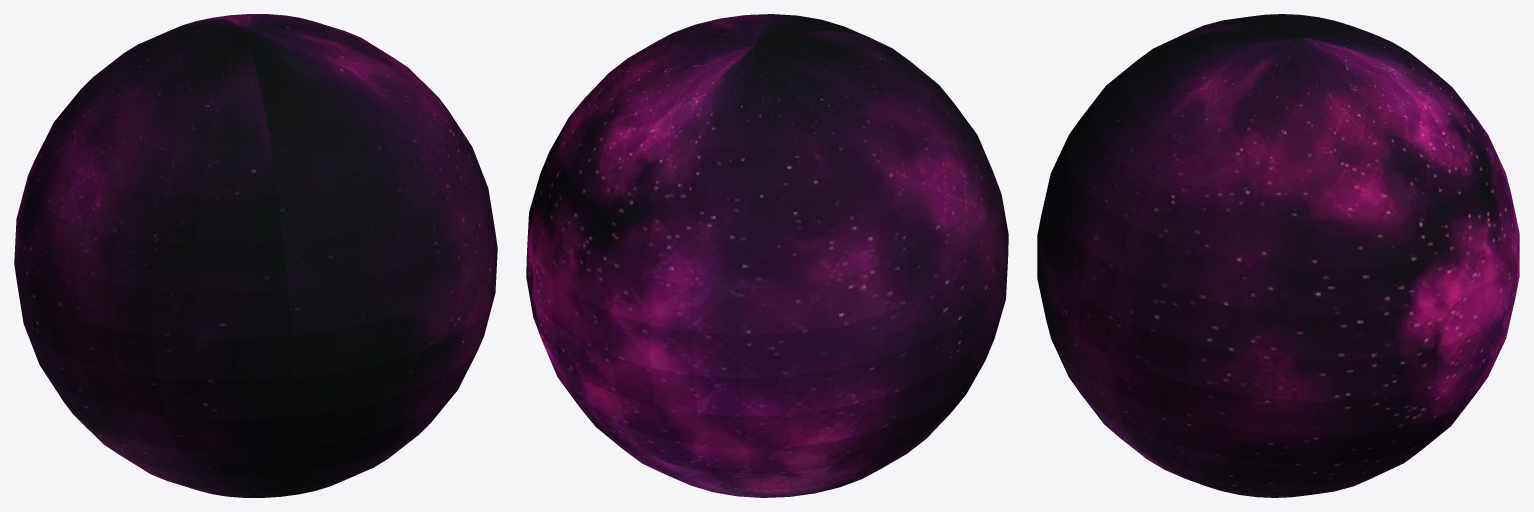
File: desk_flag_pack_free_low_poly.glb
3 views of the same model, side by side, from view 1: azimuth 30°, elevation 25°; view 2: azimuth 150°, elevation 25°; view 3: azimuth 270°, elevation 25° (orthographic).
Parts seen in each view (by area): view 1: Sphere_7; view 2: Sphere_7; view 3: Sphere_7.
Part boxes in pixels (x1=…): Sphere_7: x1=14, y1=14, x2=497, y2=497; Sphere_7: x1=526, y1=14, x2=1008, y2=497; Sphere_7: x1=1037, y1=14, x2=1519, y2=497.
Bounding box in the file's own units: 2309 × 2300 × 2299.
Materials: 3 (3 with a texture image).
